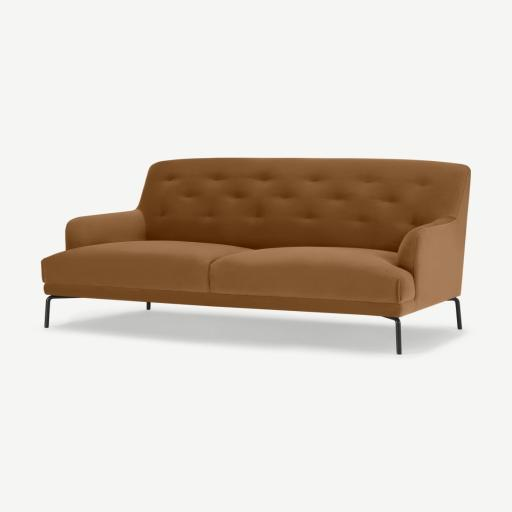back_cushion: (138, 158, 469, 252)
base: (45, 284, 414, 316)
left_arm: (397, 168, 470, 310)
legs: (384, 317, 401, 354), (44, 295, 60, 328), (456, 308, 460, 328), (454, 299, 459, 307), (146, 302, 150, 310)
right_arm: (66, 209, 146, 250)
seat_cushion: (43, 241, 413, 303)
two-seater: (0, 0, 511, 512)
